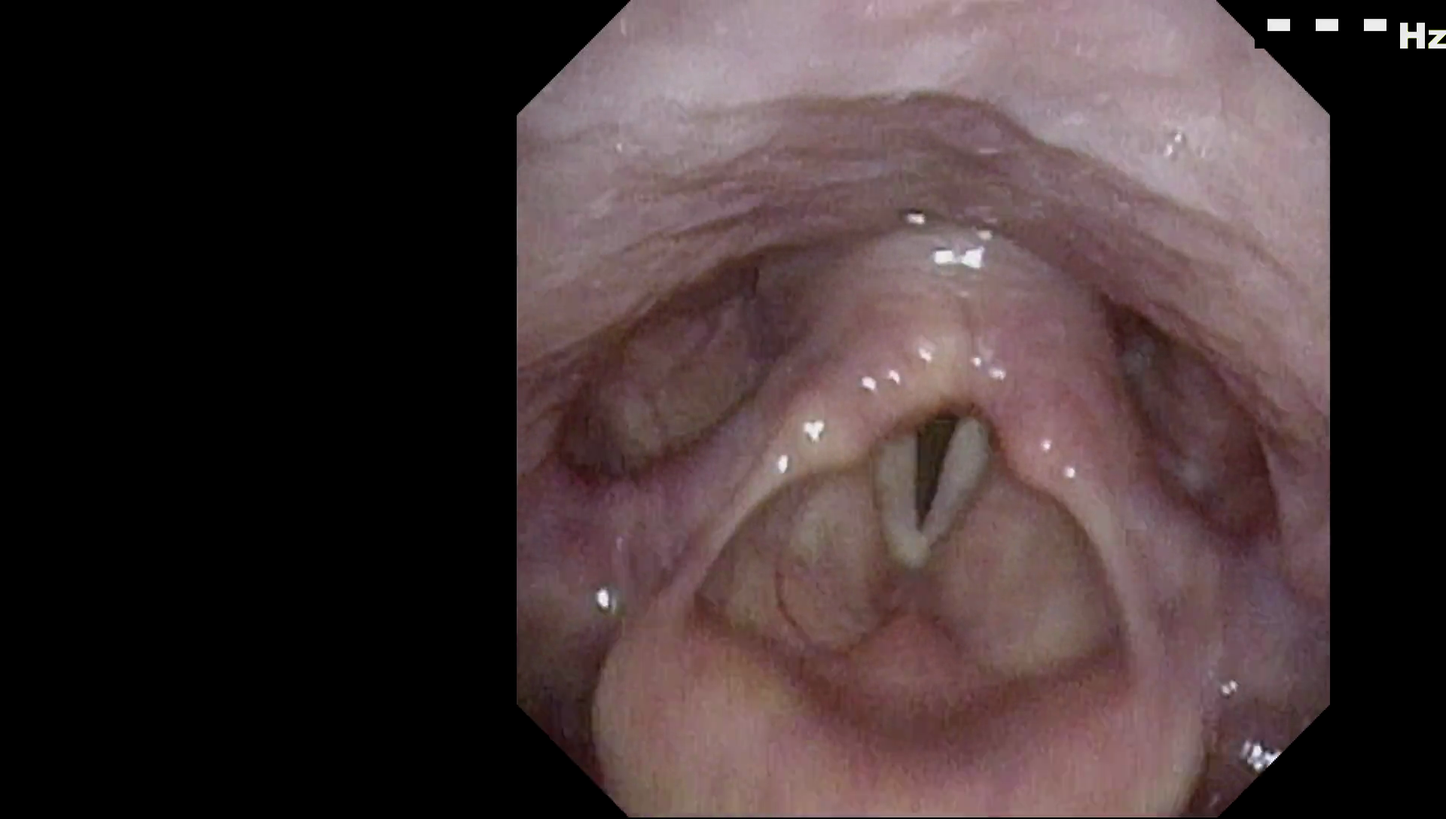trachea: (870, 383, 998, 581)
